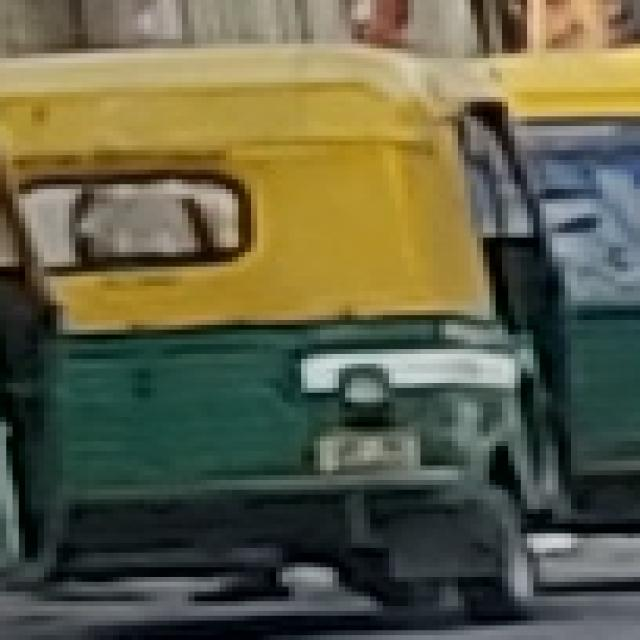autorickshaw: (6, 39, 609, 625)
